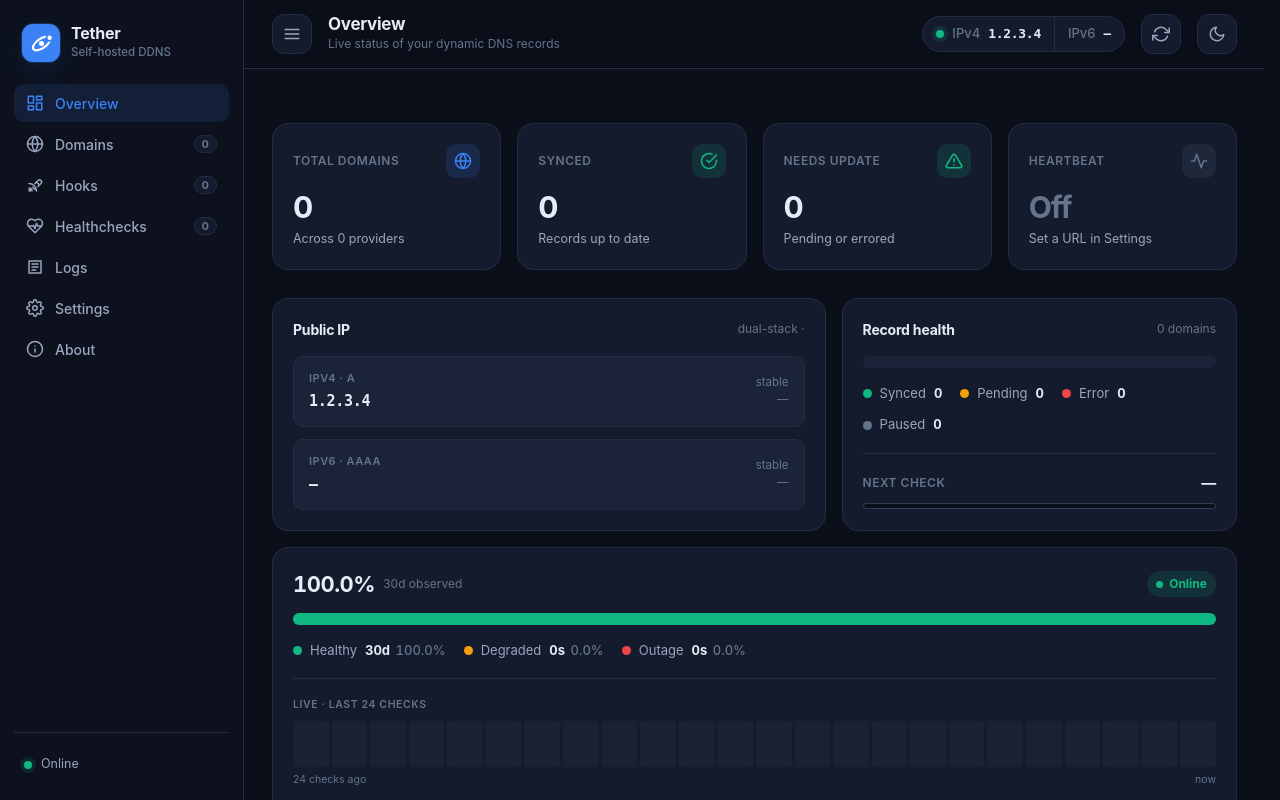
Scenario: App delete confirmation › names the provider in the domain dialog
The width and height of the screenshot is (1280, 800).
What coordinates should you click on to do the following:
click the button "Domains 0"
I would click on:
 (122, 144)
Its box is [14,125,229,163].
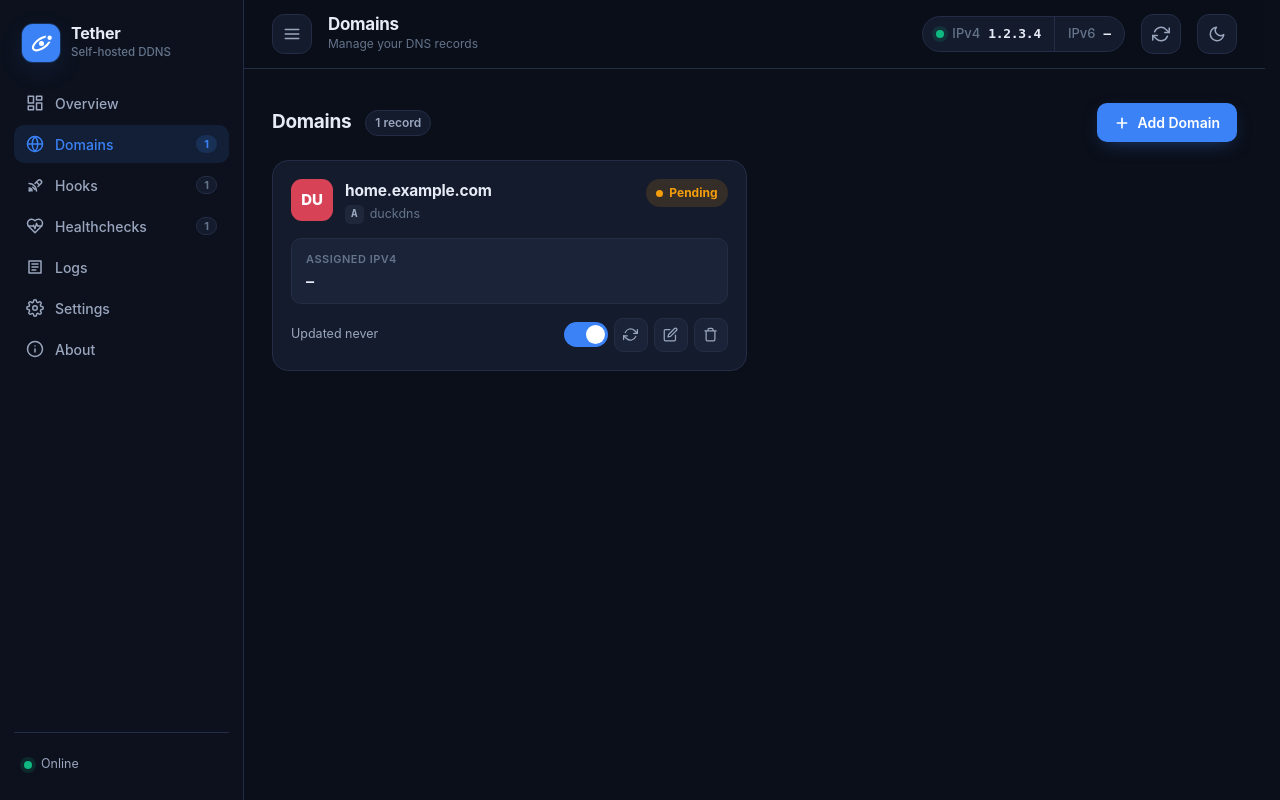
What coordinates should you click on to do the following:
click the button named "Delete"
I would click on:
 (710, 335)
Its box is [694,318,728,352].
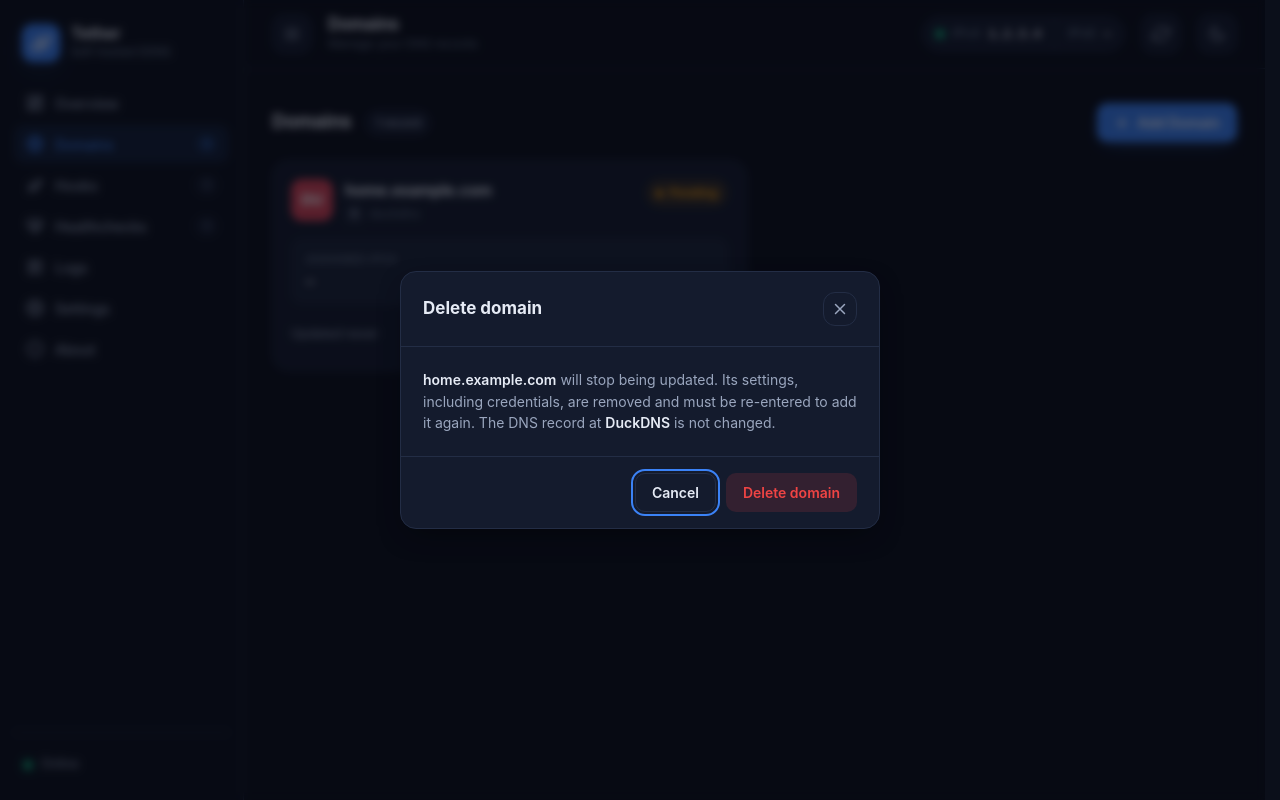
Check: the text "DuckDNS" is shown, box [605,414,670,431]
